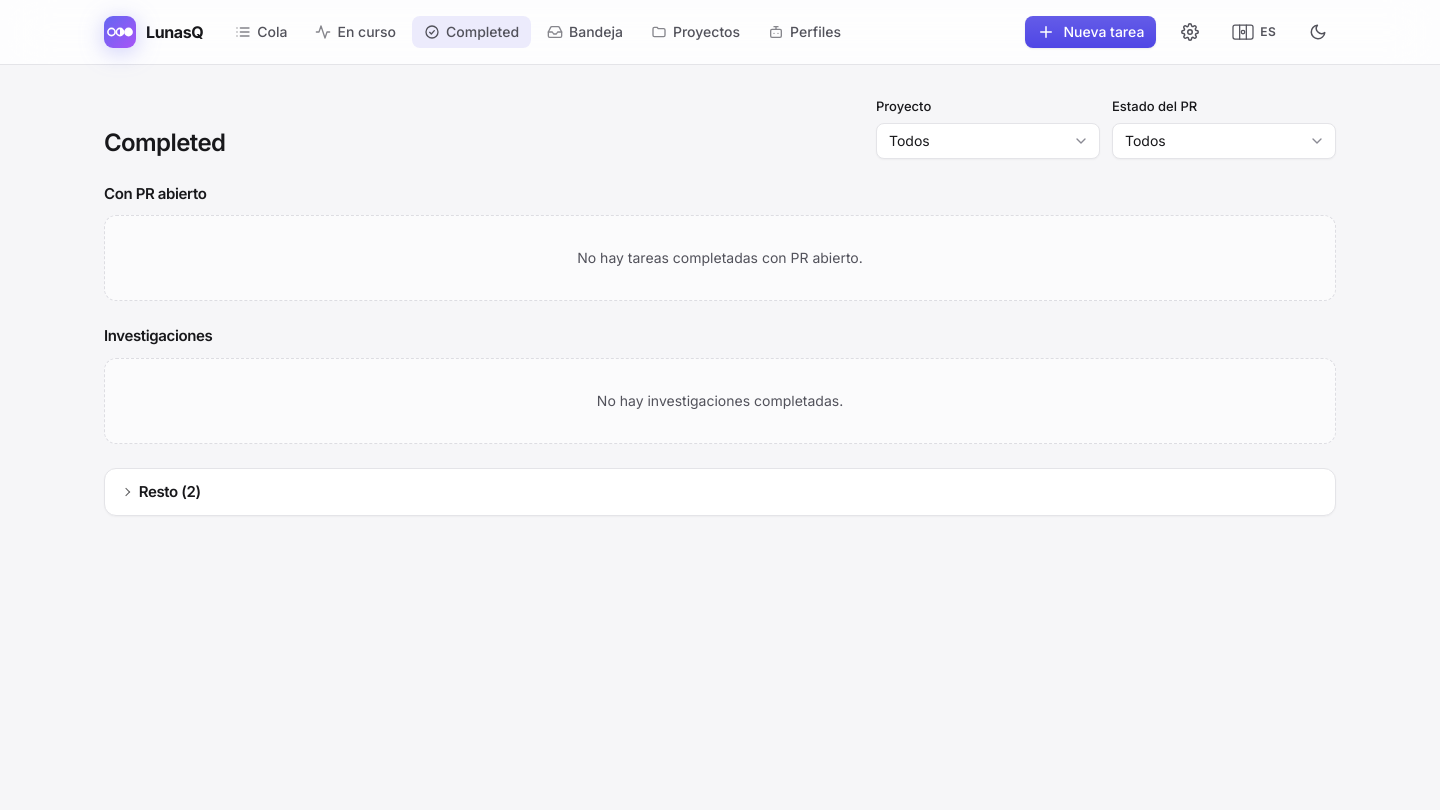
Scenario: completed › lists the most recently completed first with when it was completed
Click the heading "Resto (2)": (170, 491) [139,482,201,500]
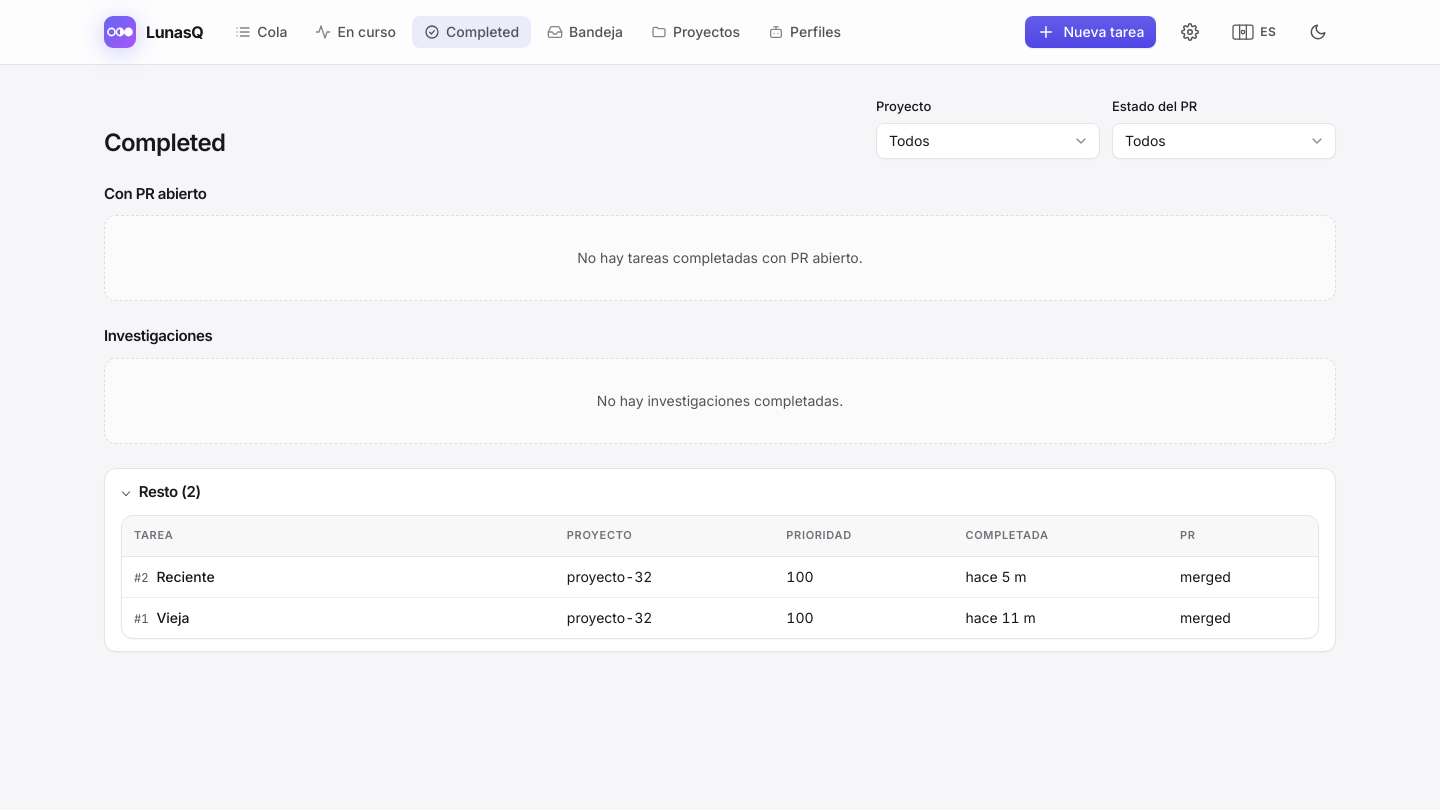
Expected: the row "#2 Reciente proyecto-32 100 hace 5 m merged" is shown, [122,556,1318,597]
Expected: the column heading "Completada" is shown, [954,516,1168,556]
